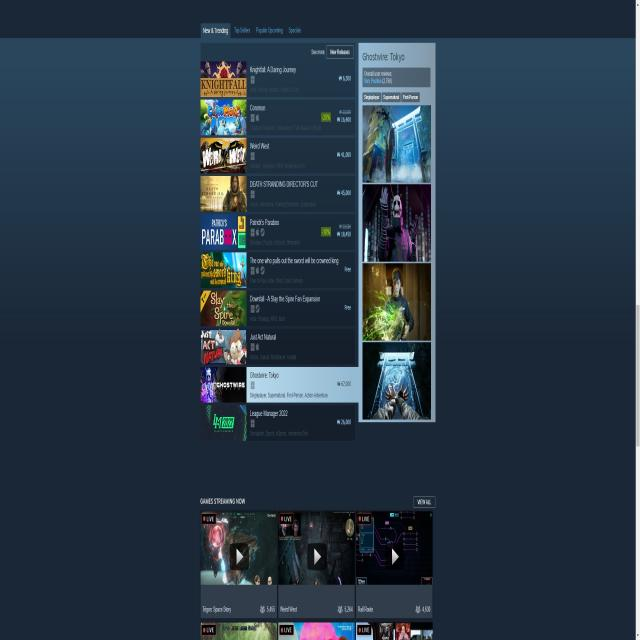side-panel: (358, 40, 435, 423)
tab-bar: (200, 20, 302, 39)
